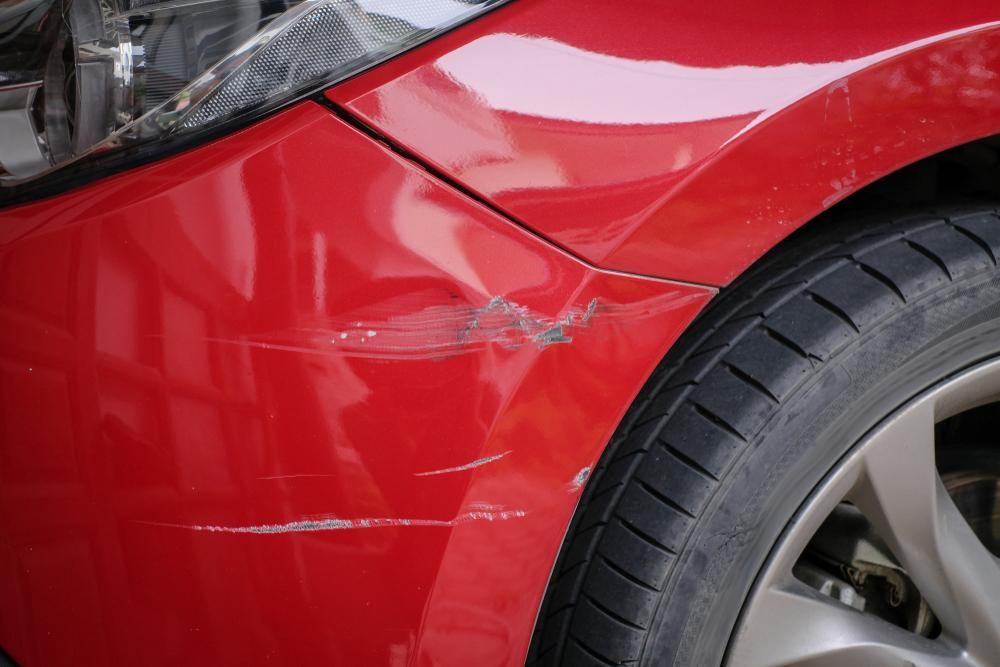scratch: (161, 444, 593, 538), (221, 286, 710, 360)
